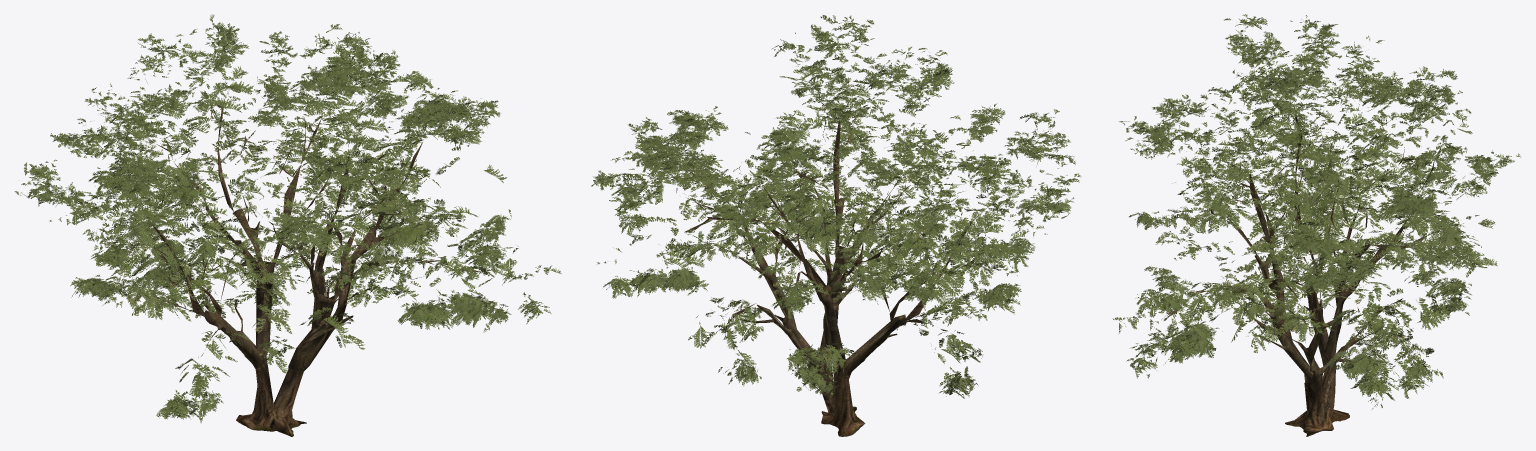
File: jacaranda_tree.glb
3 views of the same model, side by side, from view 1: azimuth 30°, elevation 25°; view 2: azimuth 150°, elevation 25°; view 3: azimuth 270°, elevation 25° (orthographic). The views are drawn at different scales.
Parts seen in each view (by area): view 1: jacaranda_tree_LOD0; view 2: jacaranda_tree_LOD0; view 3: jacaranda_tree_LOD0.
Part boxes in pixels (x1=…): jacaranda_tree_LOD0: x1=14, y1=14, x2=561, y2=436; jacaranda_tree_LOD0: x1=591, y1=15, x2=1081, y2=436; jacaranda_tree_LOD0: x1=1113, y1=14, x2=1520, y2=436.
Size of the model in its own units: 24.35 by 19.43 by 19.23.
3 materials, 3 textured.
